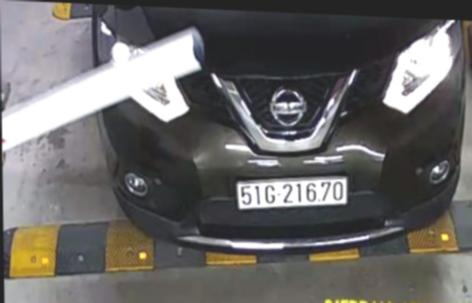License_Plate: (237, 172, 347, 210)
